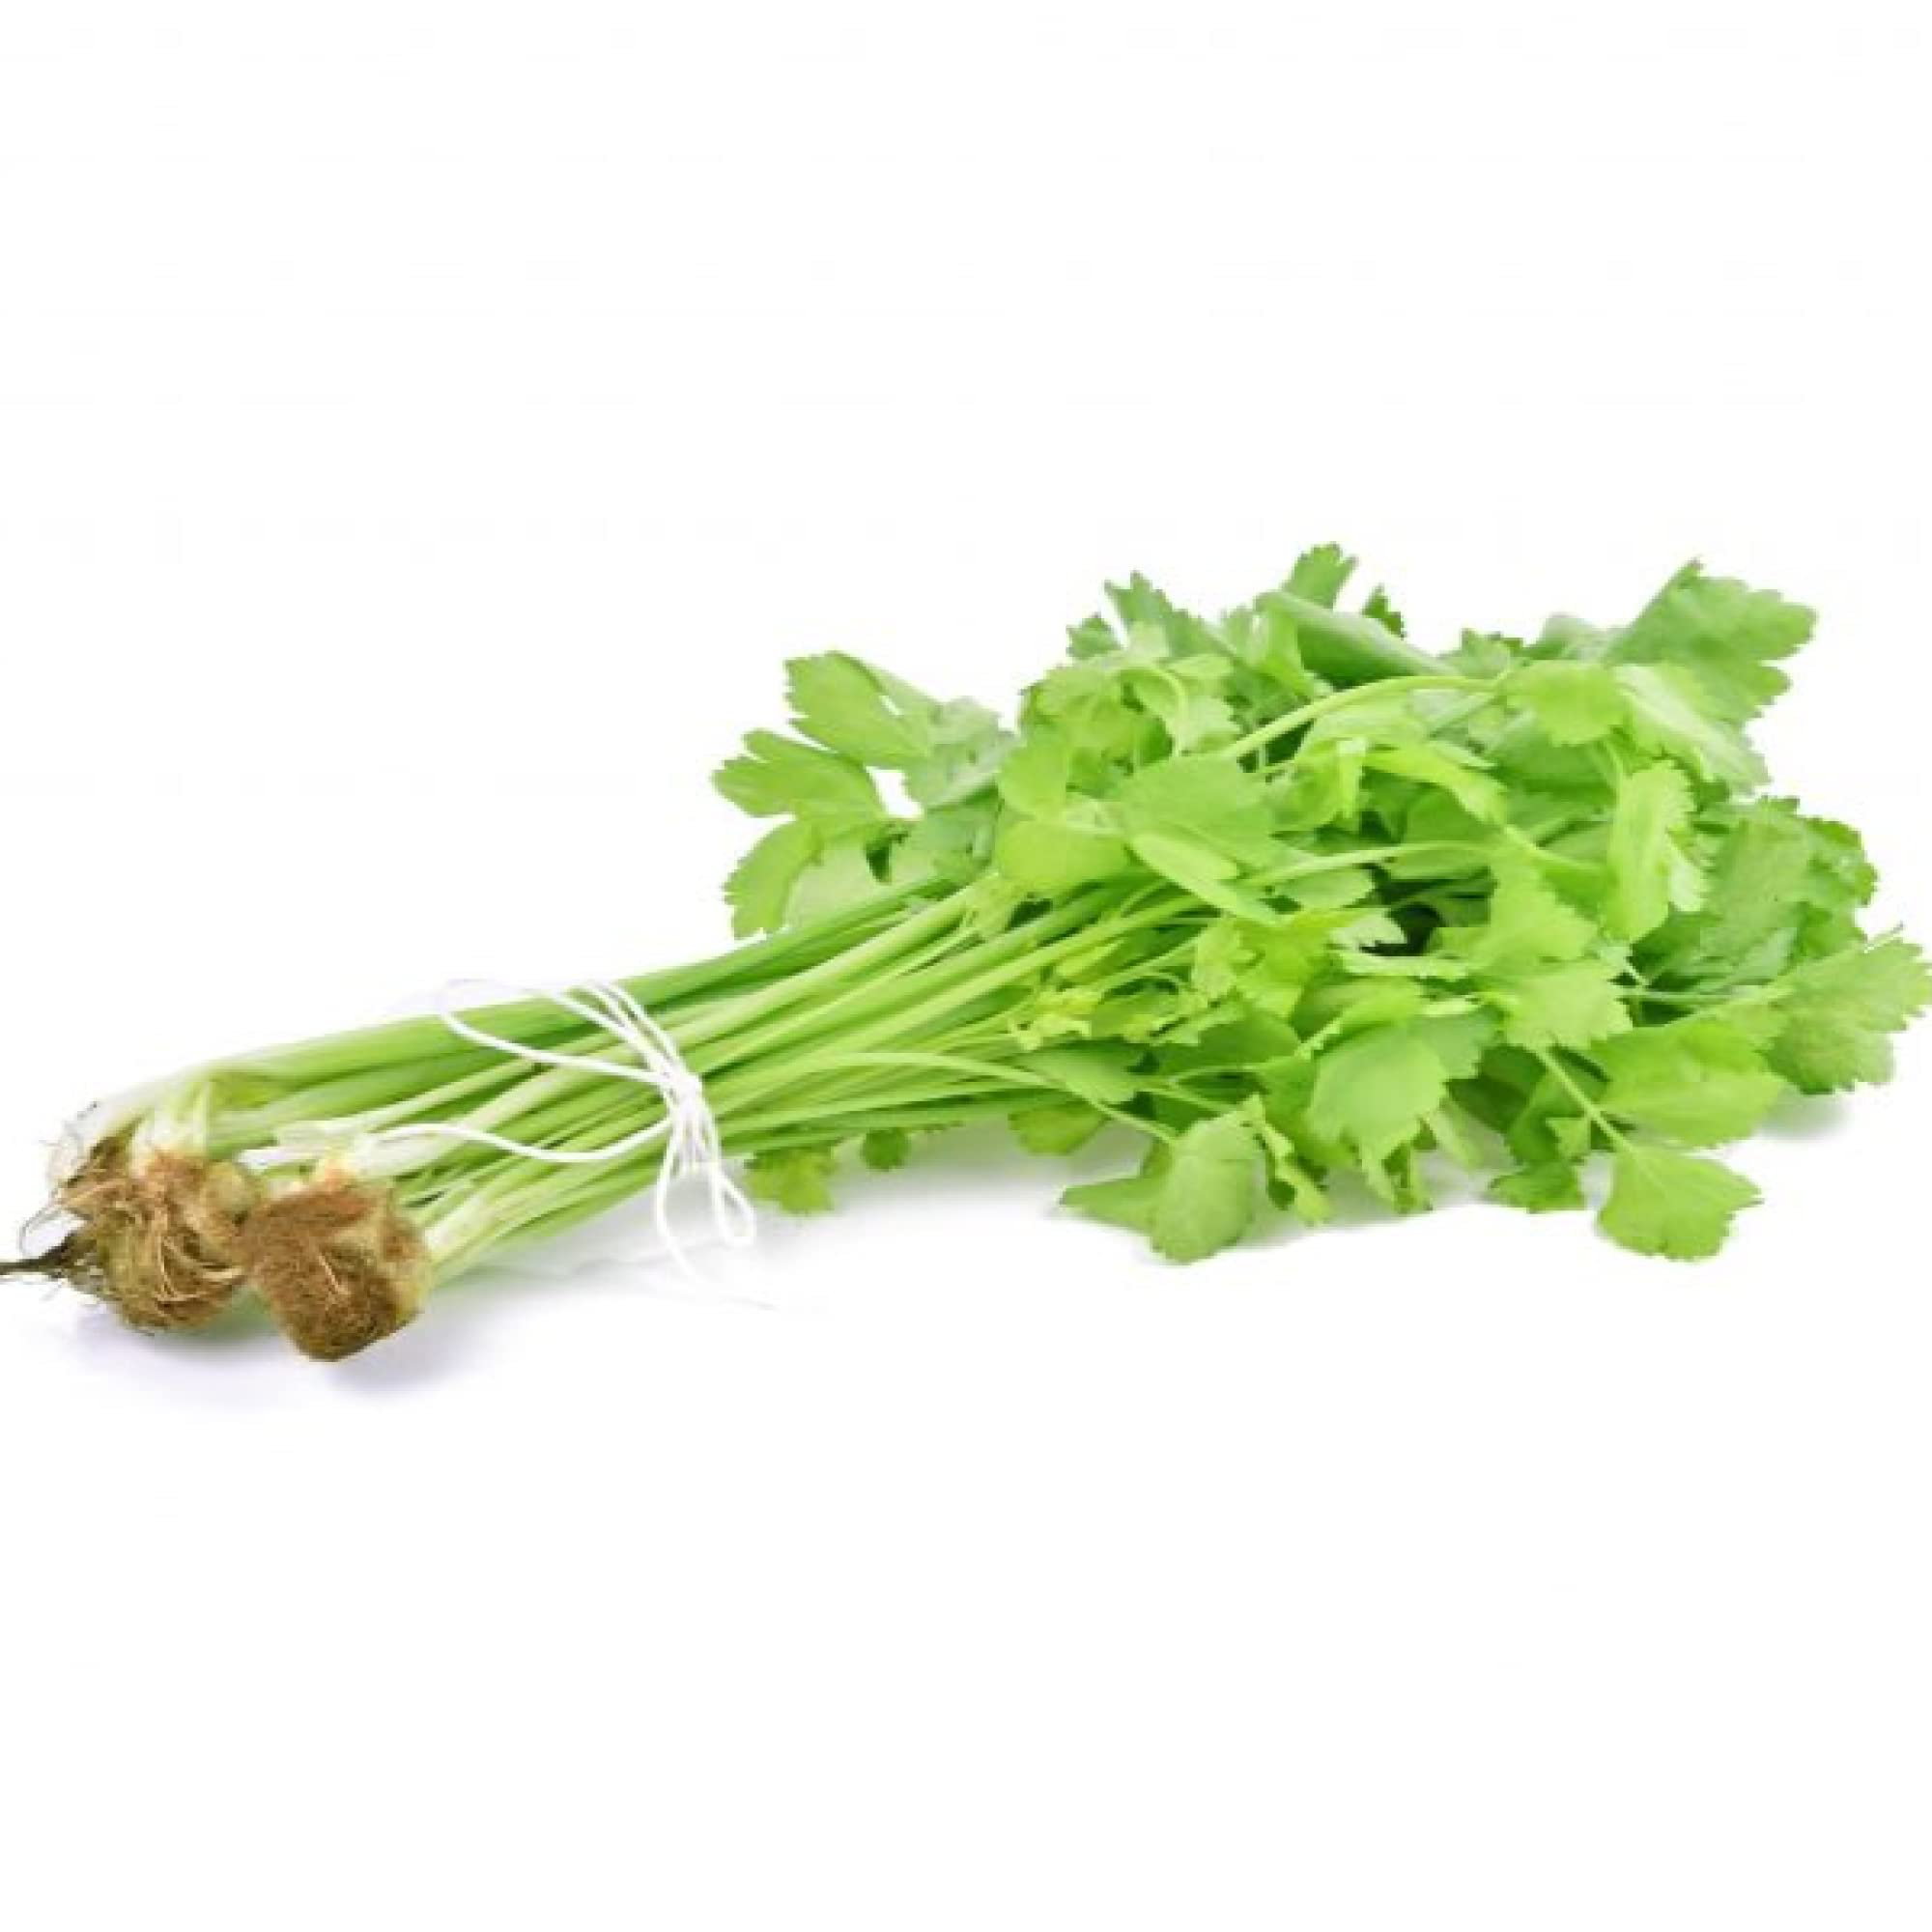Seledri: (58, 441, 1932, 1684)
